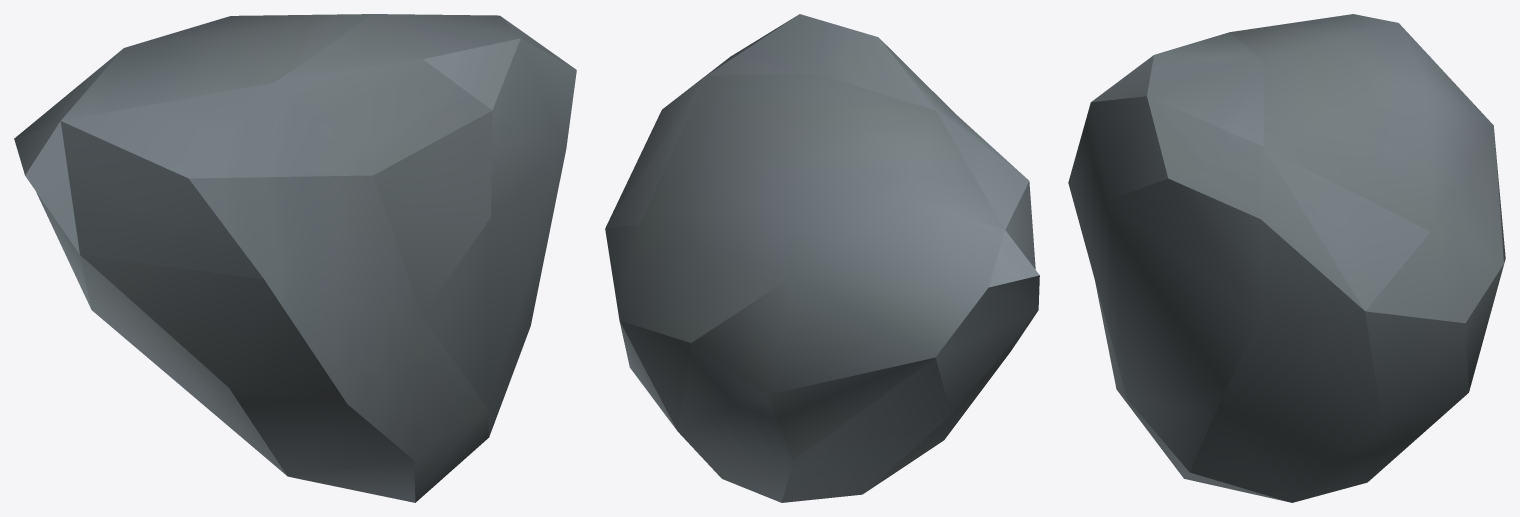
Rendered from kk-rock.glb.
The picture shows the model from 3 angles, left to right: view 1: azimuth 30°, elevation 25°; view 2: azimuth 150°, elevation 25°; view 3: azimuth 270°, elevation 25°; orthographic projection. The views are drawn at different scales.
Visible parts, largest first — view 1: Rock_3_A_Color1; view 2: Rock_3_A_Color1; view 3: Rock_3_A_Color1.
Boxes of the visible parts, x1,y1,x2,y2 form: Rock_3_A_Color1: (14,14,576,502); Rock_3_A_Color1: (605,14,1039,502); Rock_3_A_Color1: (1068,14,1505,502).
Bounding box in the file's own units: 0.9563 × 0.8589 × 0.8075.
Materials: 1 (1 with a texture image).
